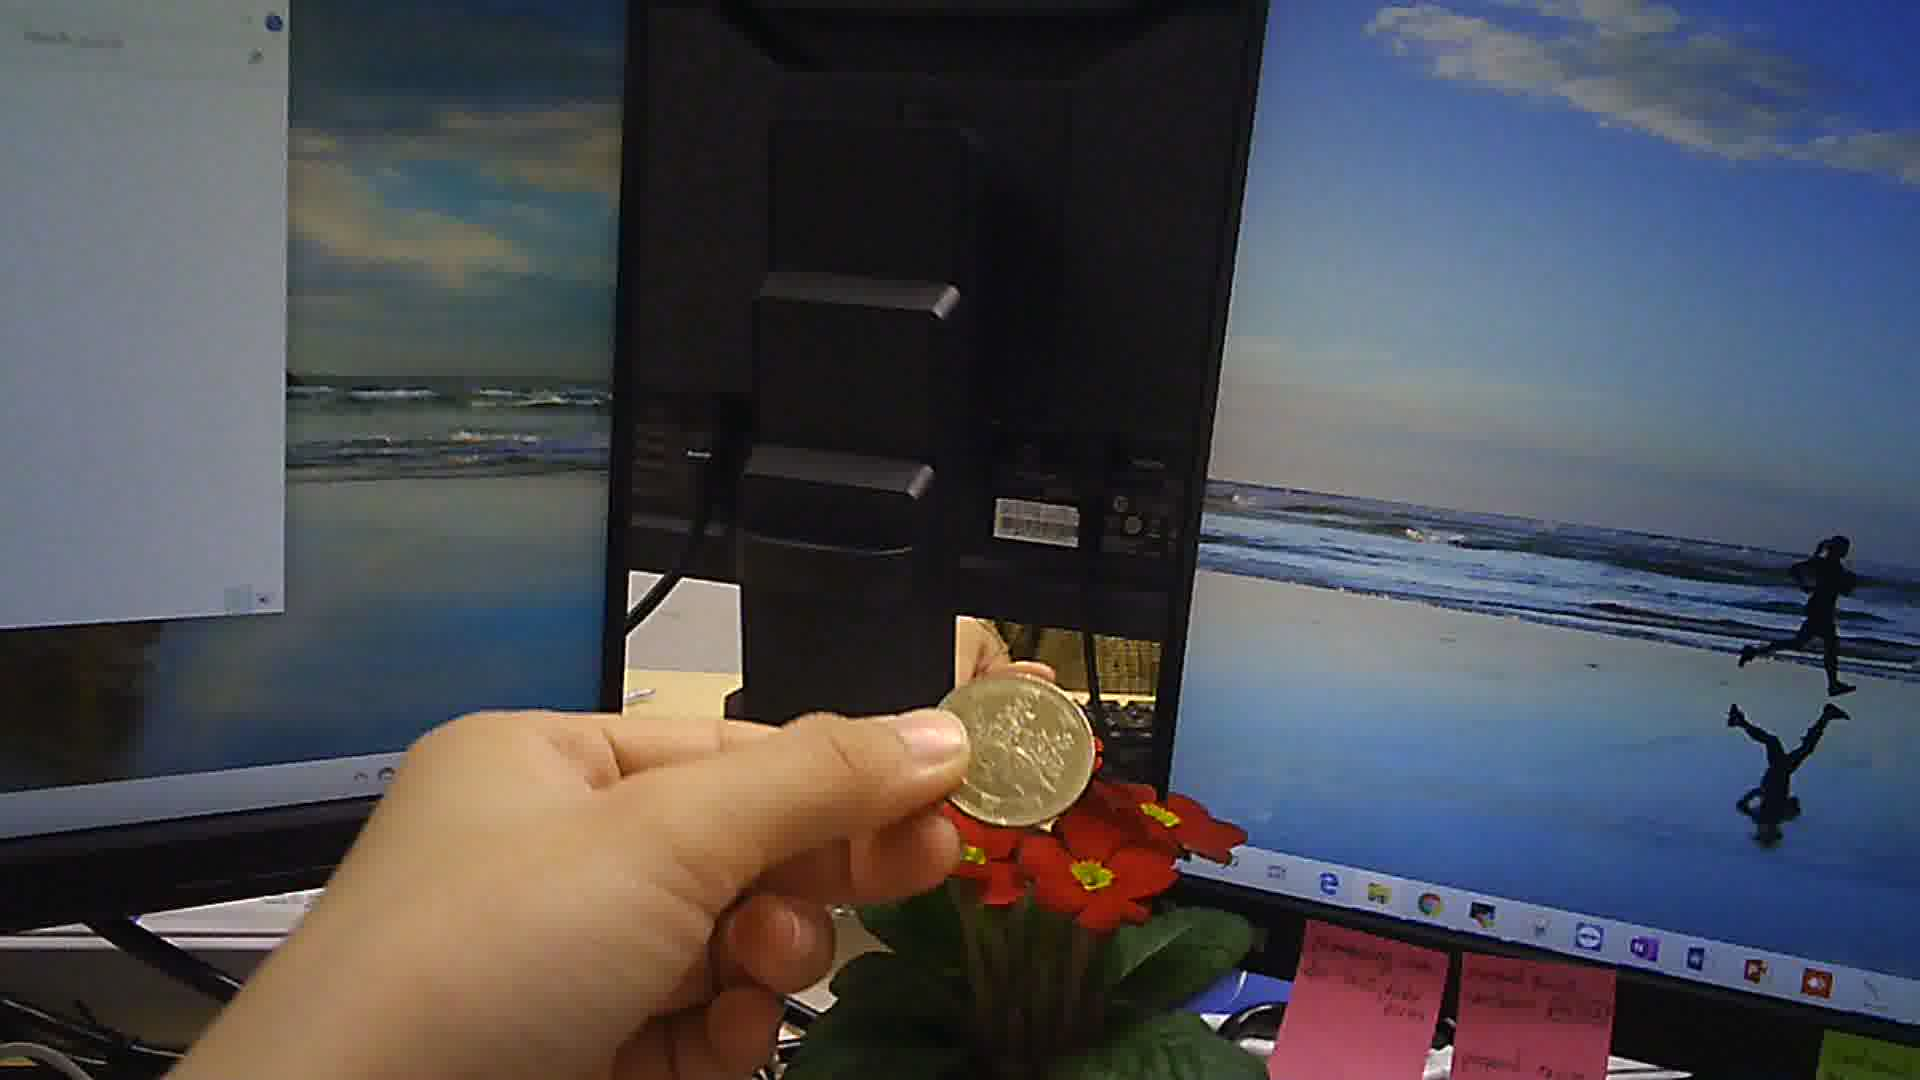500 Yen: (924, 663, 1102, 825)
